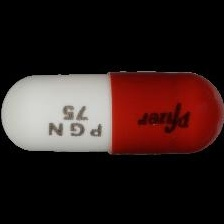52959-747: (0, 0, 224, 224)
